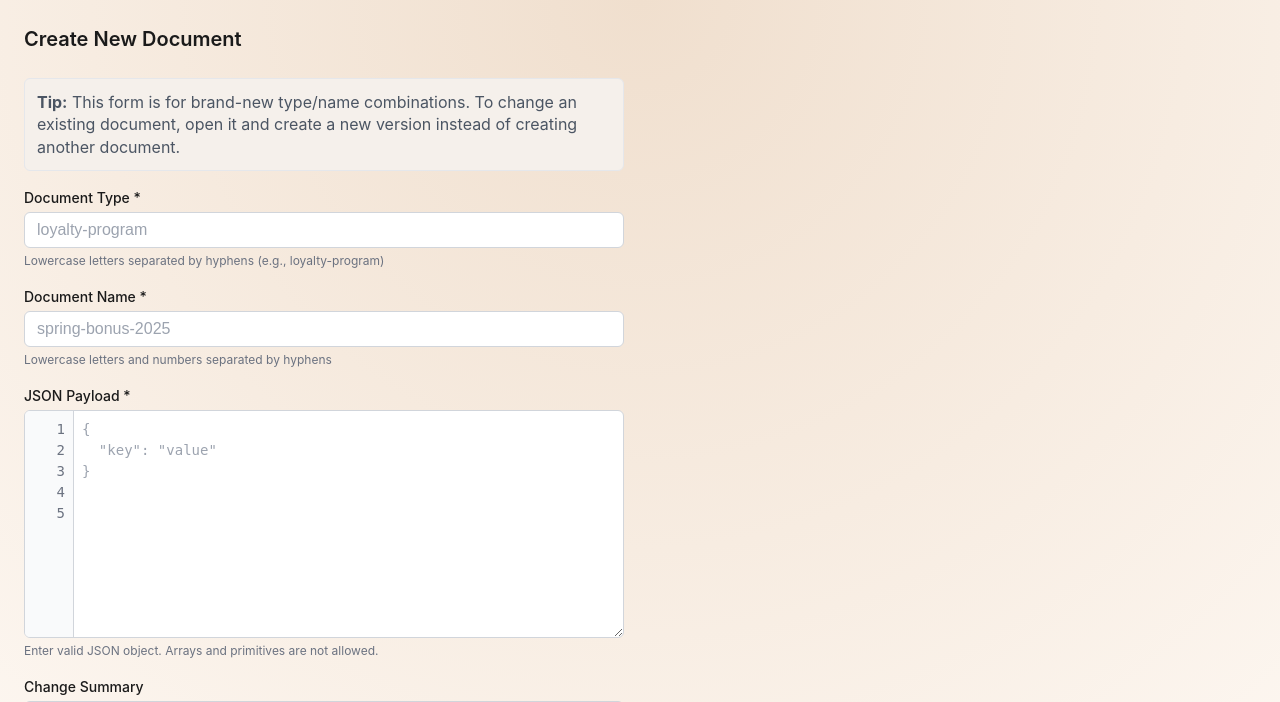
Test case: CreateDocumentForm › field validation - document type (kebab-case) › shows error for invalid type format - numbers at start
Type "123-type" into the field labelled "Document Type *".
click(324, 230); type("123-type")  # box [24,212,624,248]
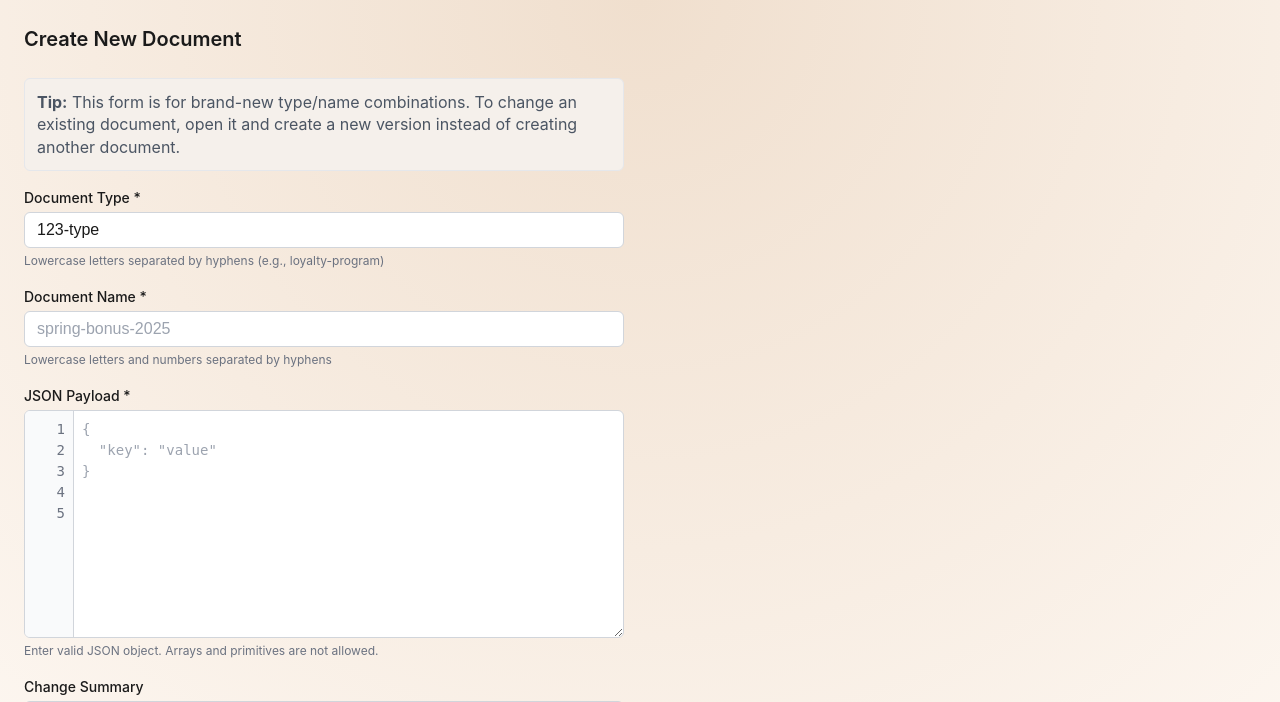
Leave the field labelled "Document Type *", box [24,212,624,248]
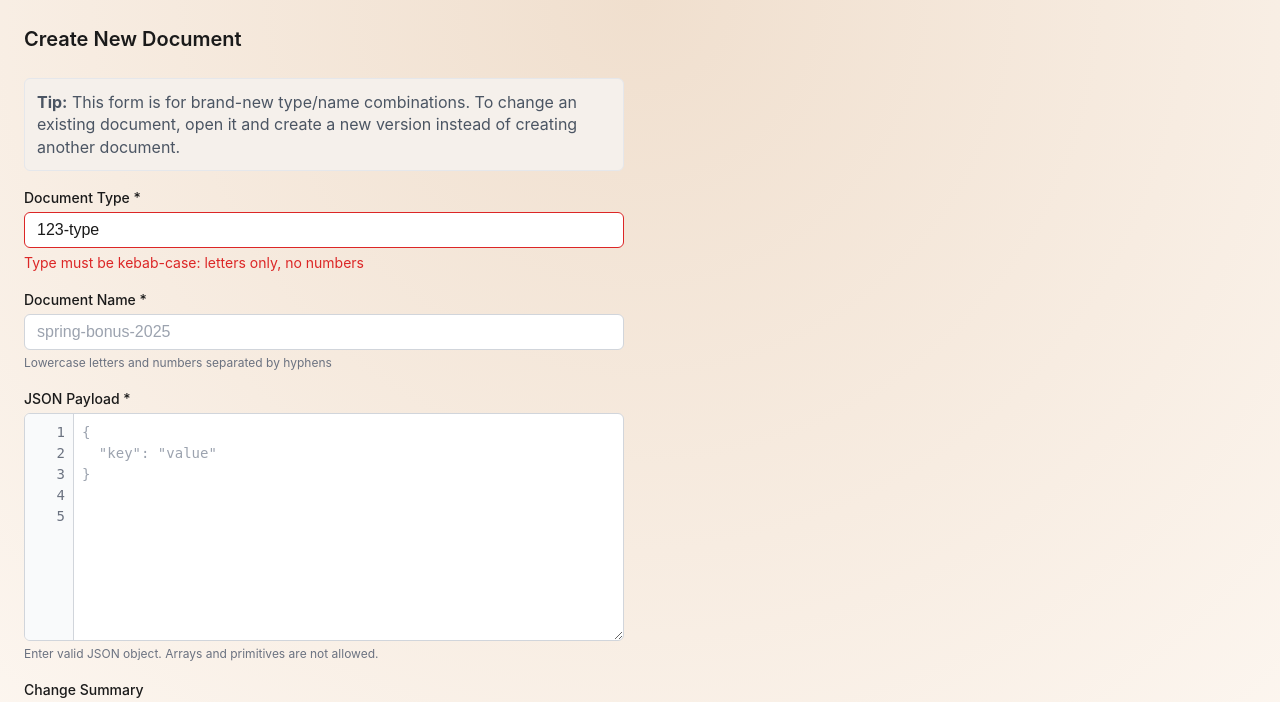
Expected: the text "Type must be kebab-case: letters only, no numbers" is shown, [24,254,364,271]
